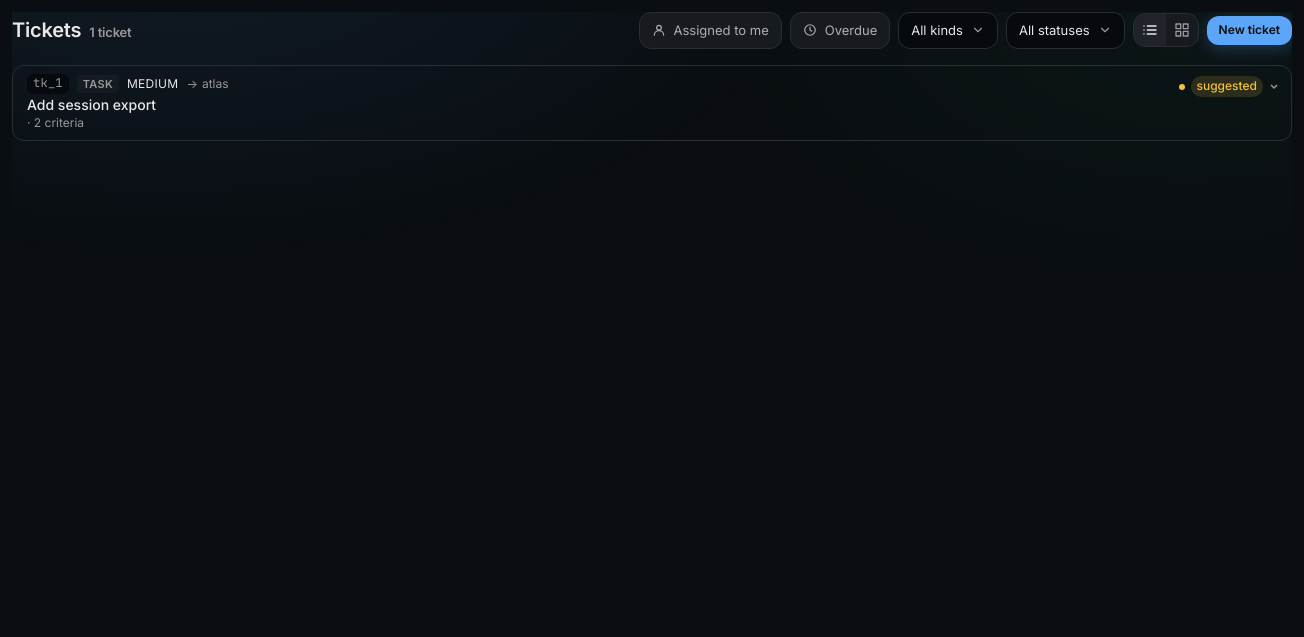
TicketsTab › expands ticket detail on click
What coordinates should you click on to do the following:
click the text "Add session export"
I would click on:
 (92, 105)
Its box is top-left (27, 96), bottom-right (156, 113).
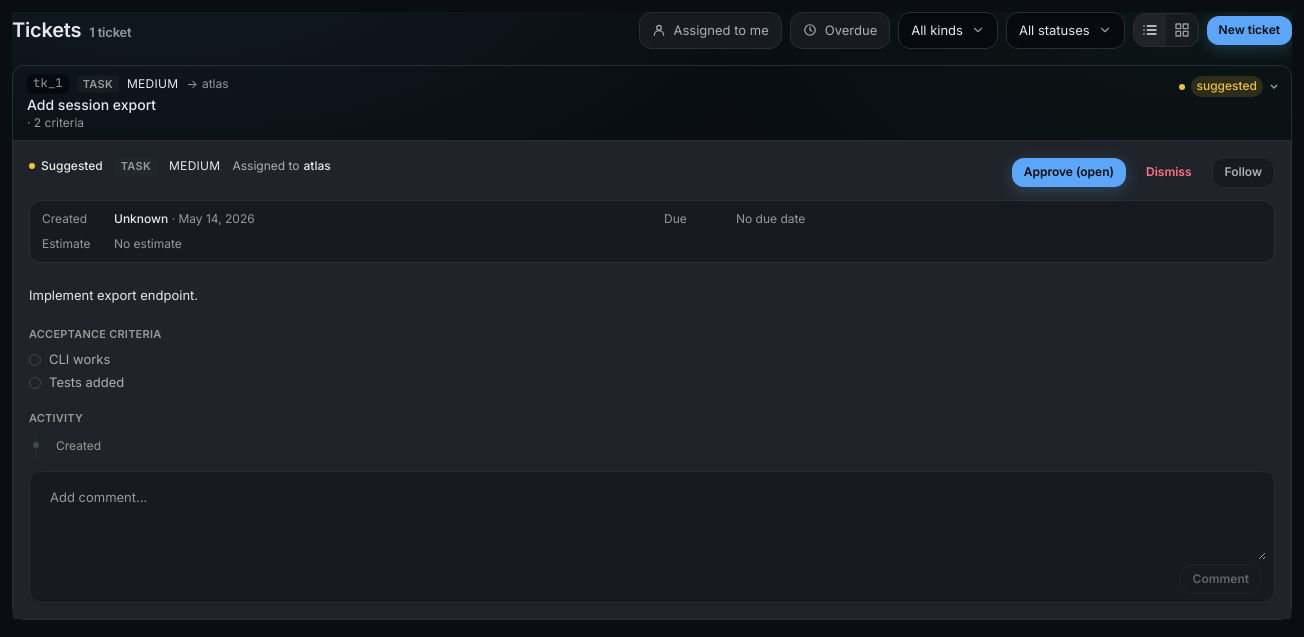
Now the text "Implement export endpoint." is shown, box top-left (29, 287), bottom-right (198, 303)
Now the text "CLI works" is shown, box top-left (49, 350), bottom-right (110, 368)
